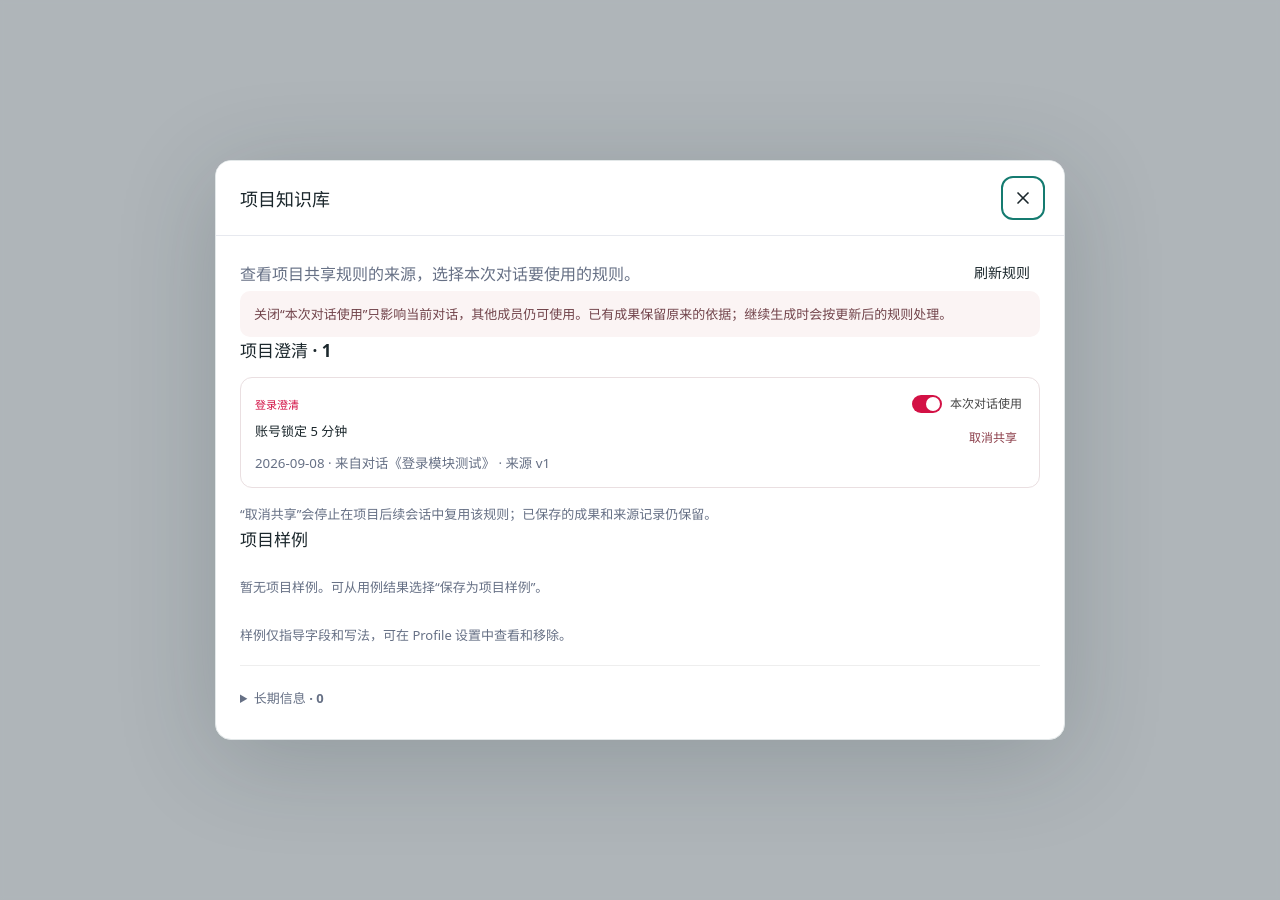
Scenario: failed busy toggle preserves inclusion state and exposes actionable error
Click the switch named "本次对话使用 登录澄清" at coordinates (967, 404), box left=909, top=392, right=1025, bottom=416
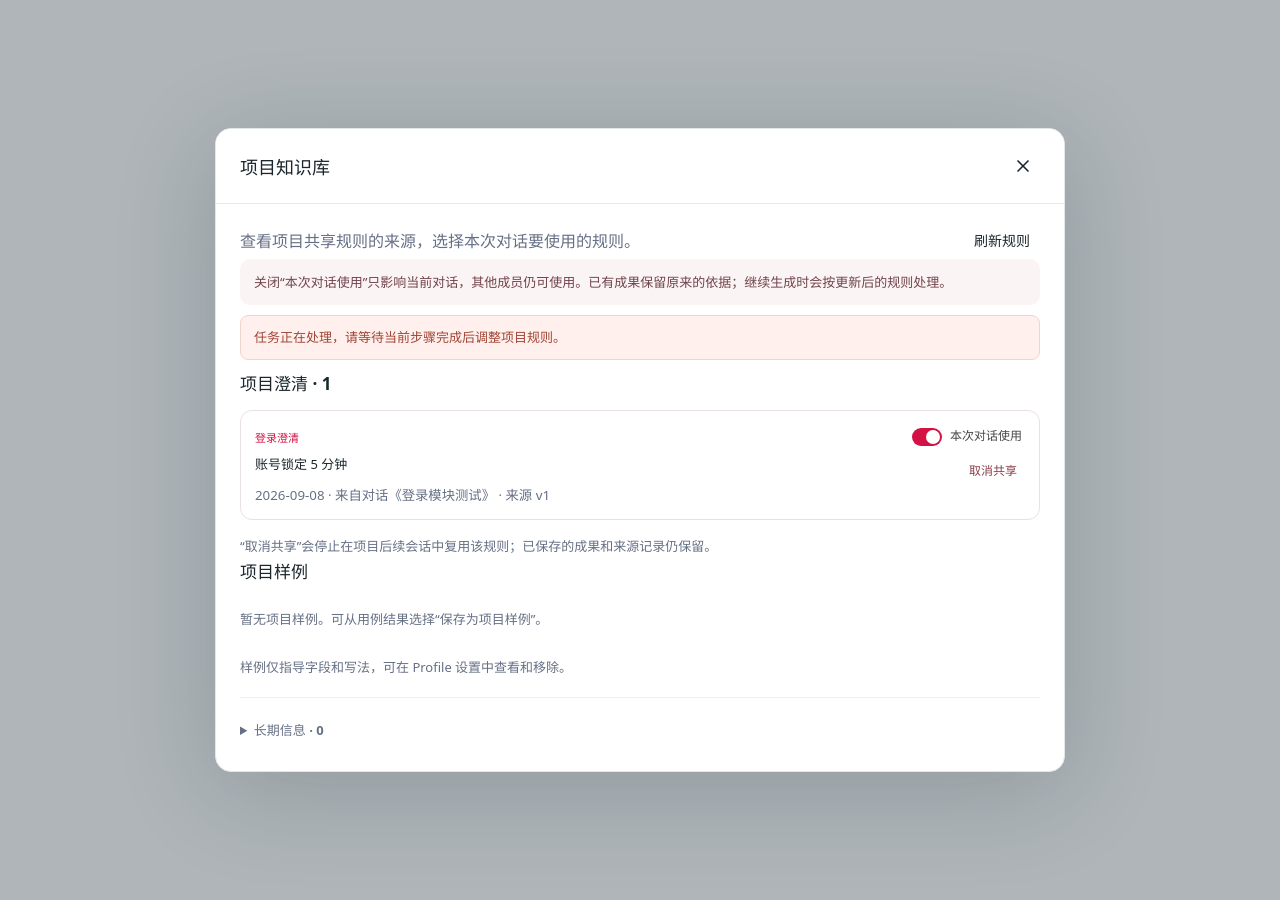
Expected: the text "任务正在处理，请等待当前步骤完成后调整项目规则。" is shown, left=240, top=315, right=1040, bottom=360
